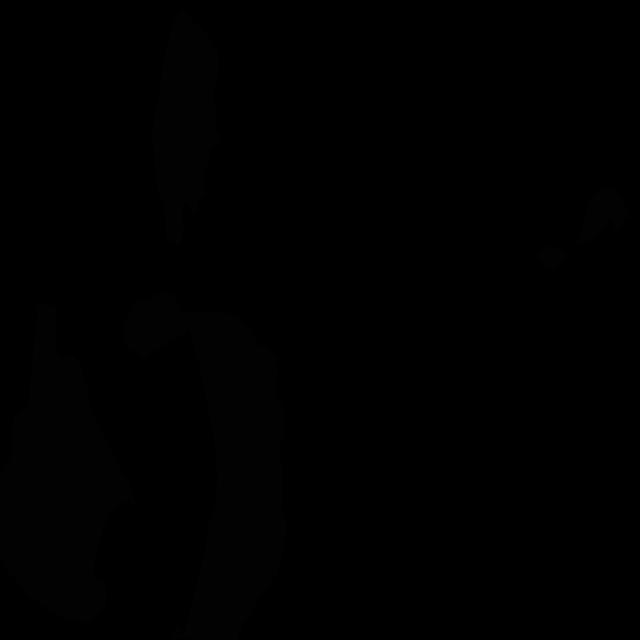cardboard: (124, 291, 288, 640), (0, 304, 136, 624), (152, 11, 220, 246), (575, 186, 631, 247), (538, 244, 567, 269)
